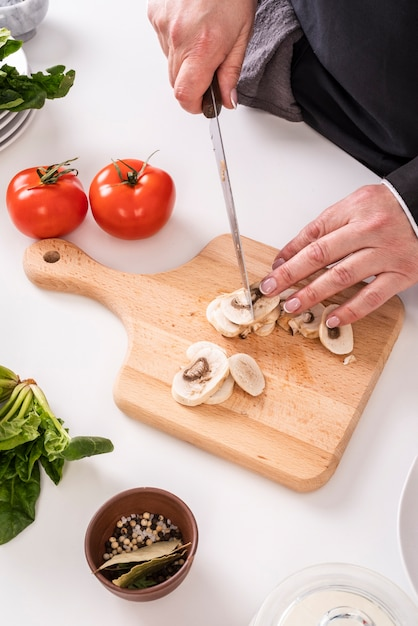knife: (195, 78, 256, 320)
